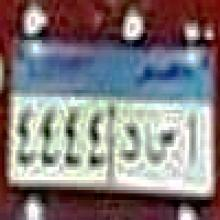4: (12, 103, 36, 172), (37, 106, 61, 170), (61, 106, 82, 172), (86, 112, 106, 173)
alif: (186, 114, 200, 169)
daal: (118, 122, 142, 168)
seen: (145, 123, 177, 174)
